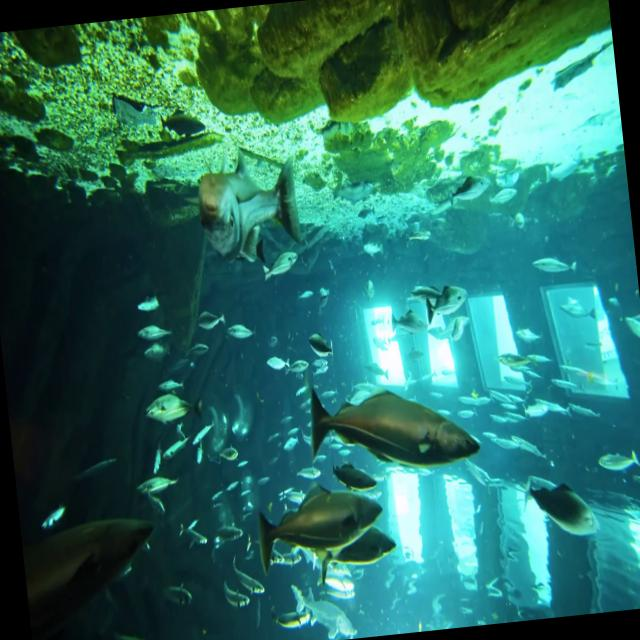fish: (303, 367, 485, 483), (19, 511, 170, 640), (183, 150, 318, 290), (237, 481, 396, 579), (519, 464, 607, 562), (317, 526, 402, 583), (414, 274, 486, 332), (141, 382, 210, 441), (596, 437, 640, 493), (552, 289, 602, 332), (128, 466, 182, 504), (302, 319, 341, 370), (386, 302, 432, 343), (265, 604, 313, 640), (530, 251, 580, 281)
